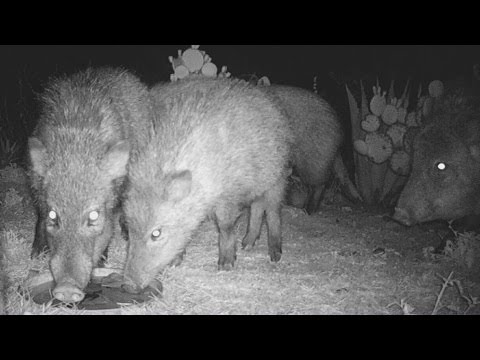javelina: (116, 42, 289, 297), (27, 65, 156, 309), (388, 93, 480, 223)
